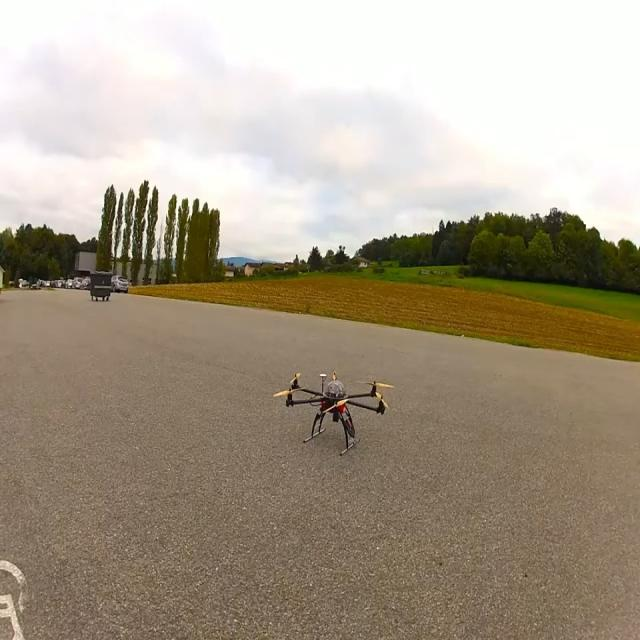drone: (272, 370, 393, 456)
